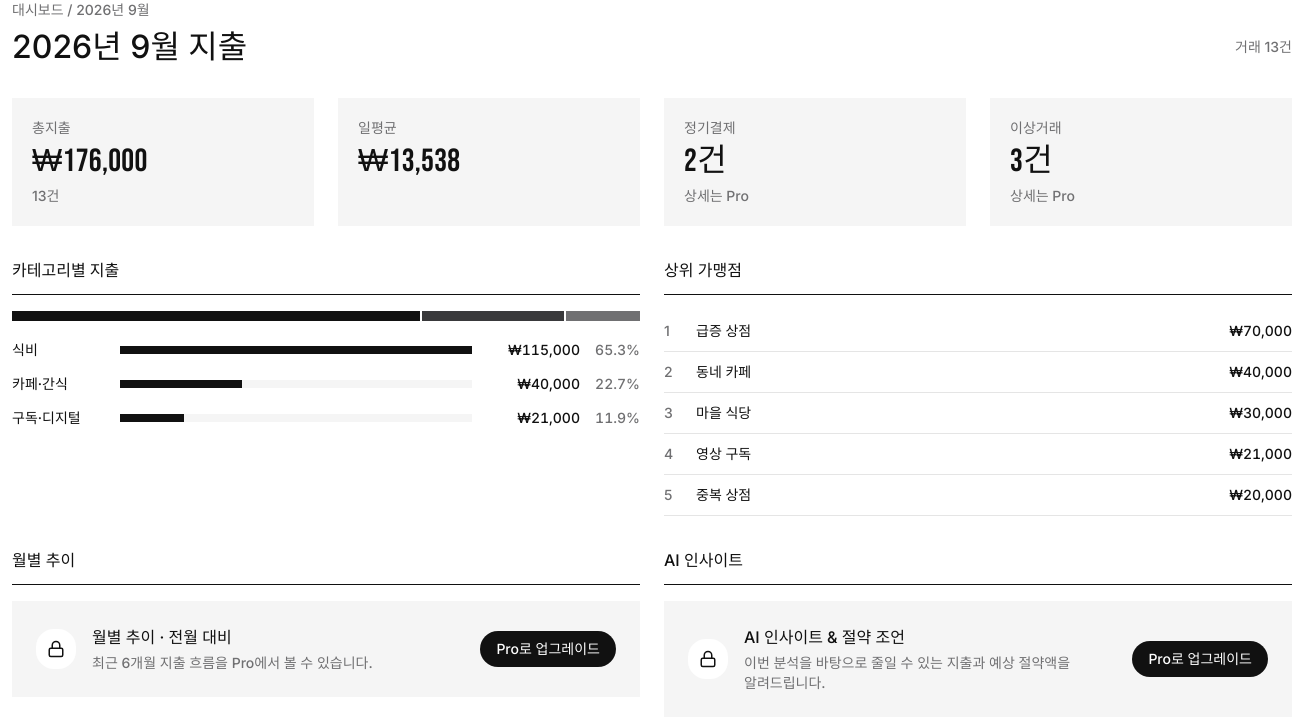
거래 필터 › 카테고리 클릭과 필터 해제를 거래 목록에 적용한다
The width and height of the screenshot is (1304, 720).
Click the button "카페·간식 ₩40,000 22.7%".
click(326, 384)  # box x1=12 y1=367 x2=640 y2=401
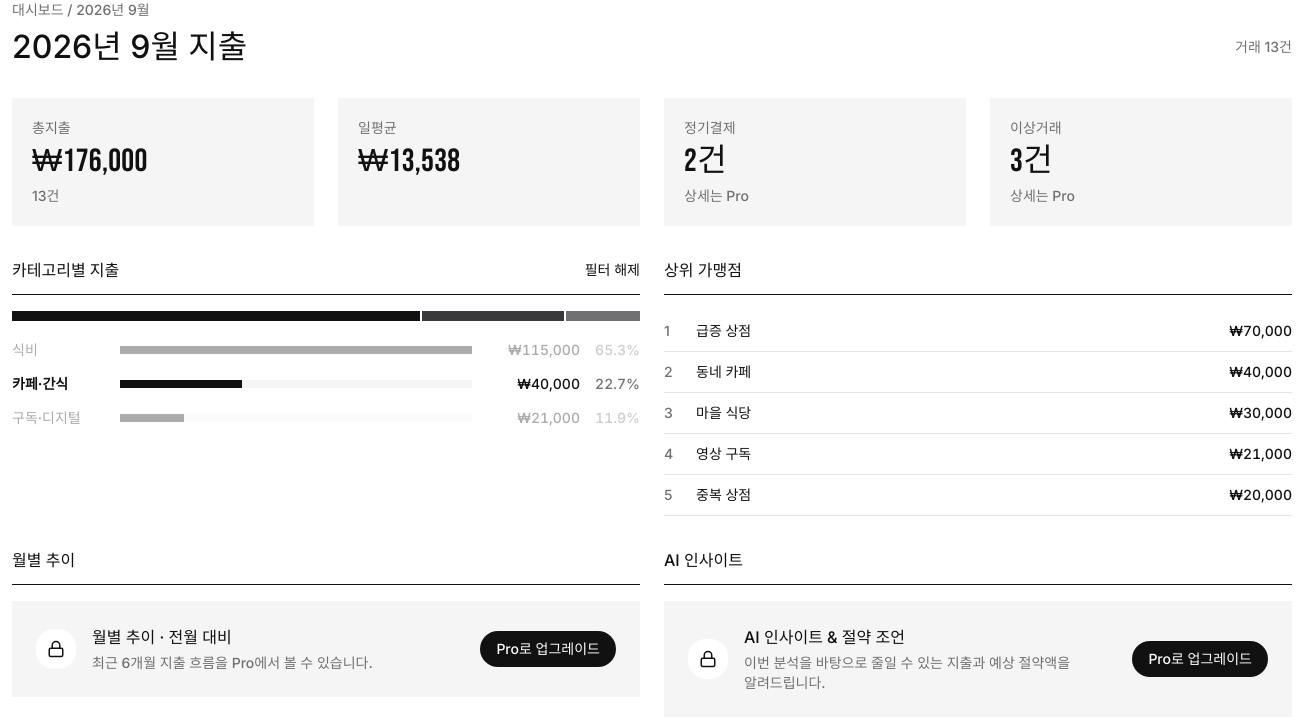
Expected: the button "카페·간식 ₩40,000 22.7%" is pressed, x1=12 y1=367 x2=640 y2=401
Click the button "필터 해제".
click(612, 270)  # box x1=585 y1=260 x2=640 y2=280
(page scrolled)
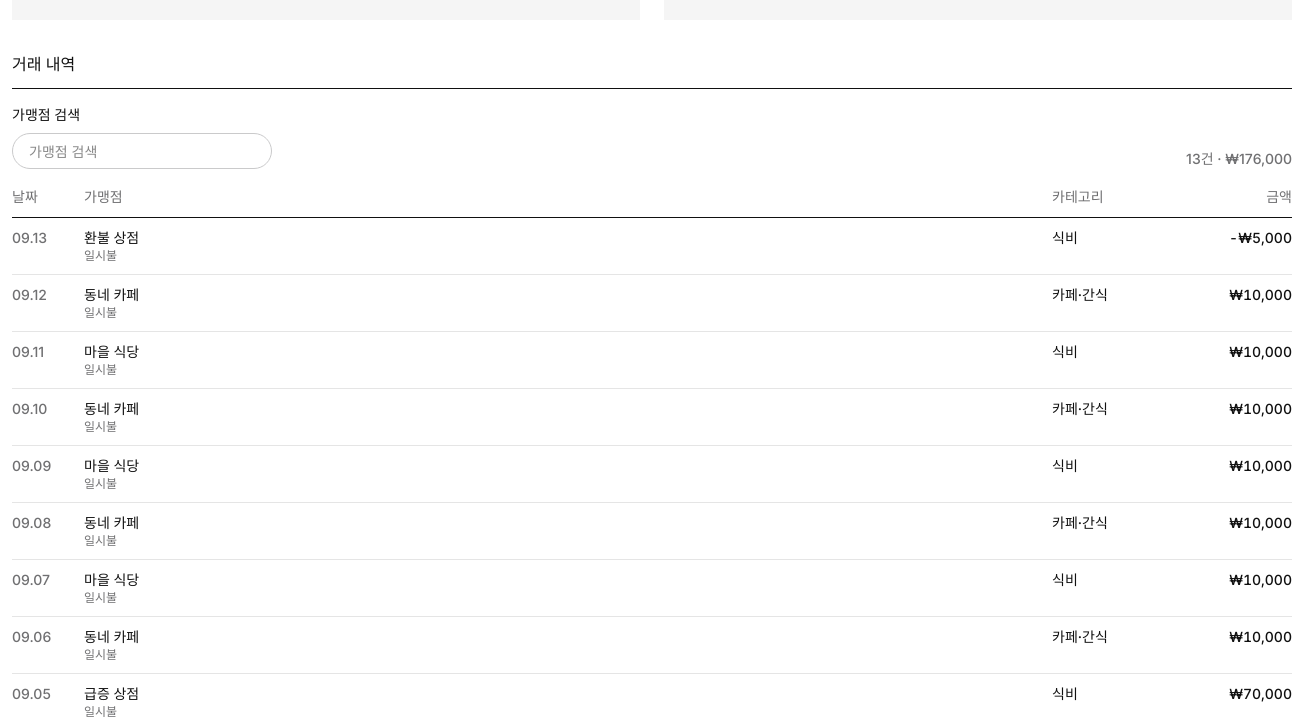
Expected: the text "마을 식당" next to "09.11" is shown, x1=84 y1=343 x2=139 y2=360
